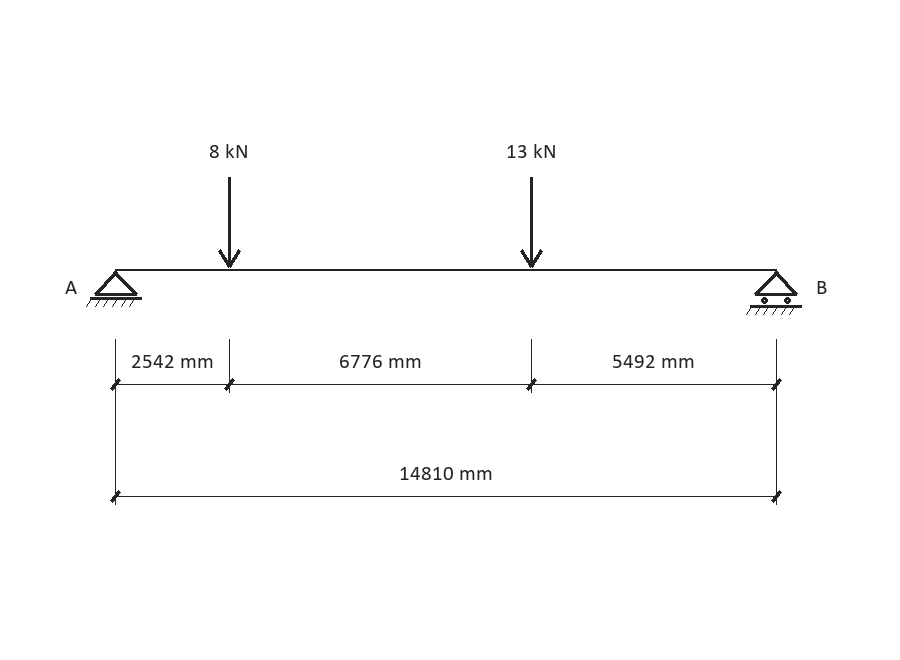pin_support: (86, 271, 142, 307)
point_load: (218, 177, 241, 268), (520, 177, 543, 268)
roller_support: (746, 271, 802, 315)
